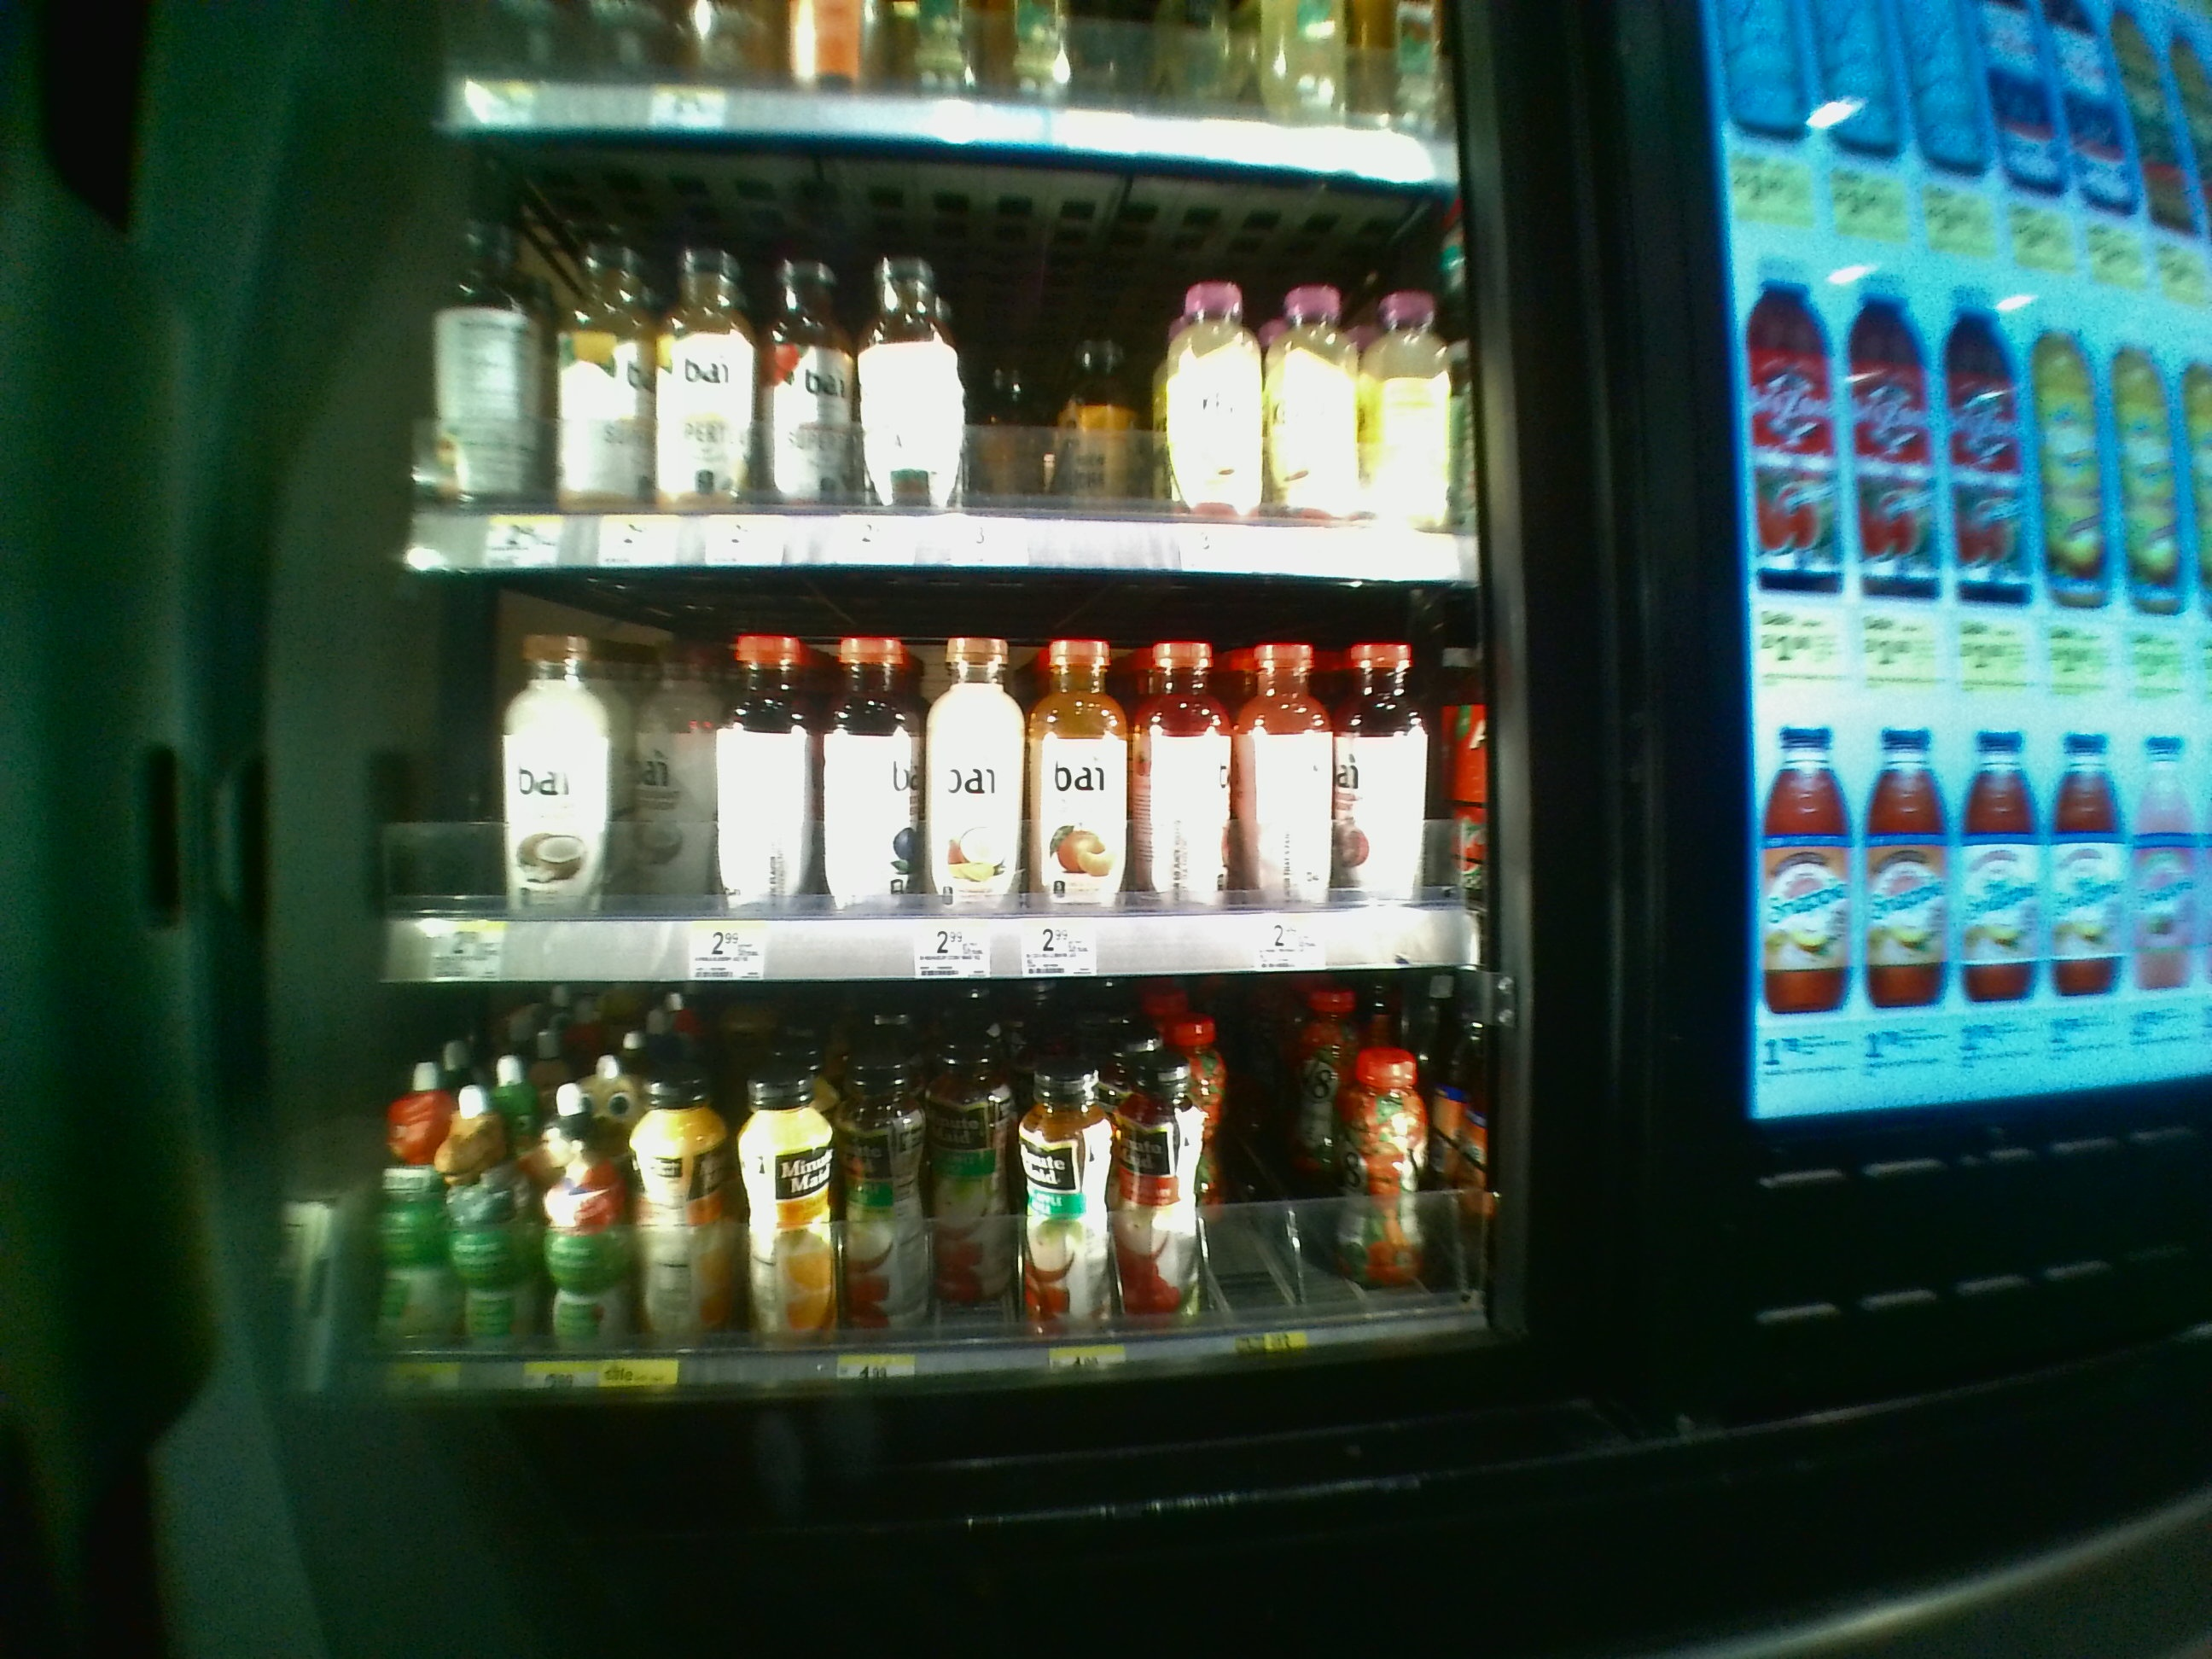shelf: (369, 997, 1515, 1413), (406, 141, 1475, 579), (376, 582, 1503, 979)
